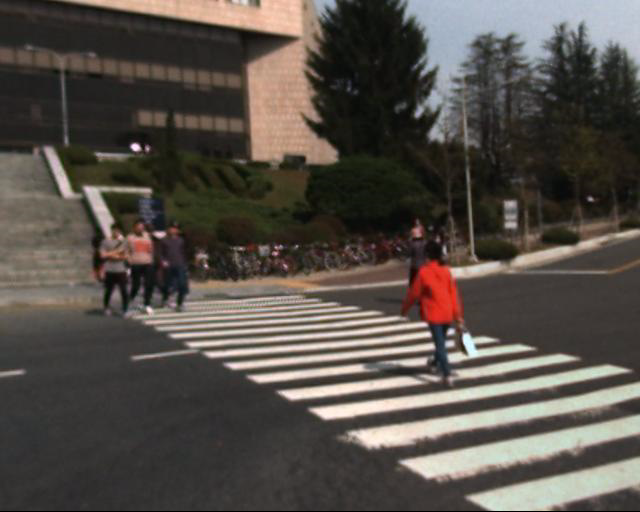person: (404, 234, 465, 404), (94, 218, 143, 317), (119, 211, 158, 325), (153, 214, 192, 323), (399, 217, 439, 318), (394, 207, 441, 277)
